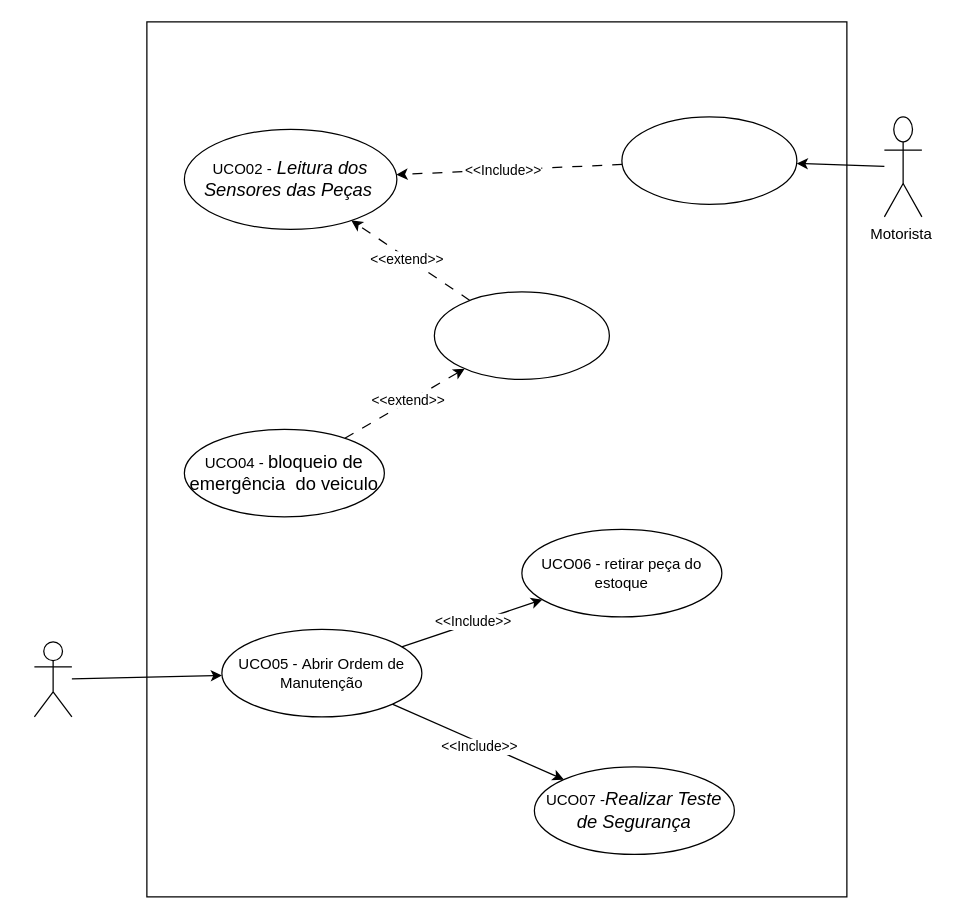
This 958x919 diagram has some shape labels left out. The box of each missing label's shape, as (x1, y1, x2, y2) in pixels:
Mecânico: (33, 641, 72, 717)
UCO01 - iniciar viagem: (621, 116, 797, 204)
UCO03 - alerta de peça quebrada: (433, 291, 609, 379)
